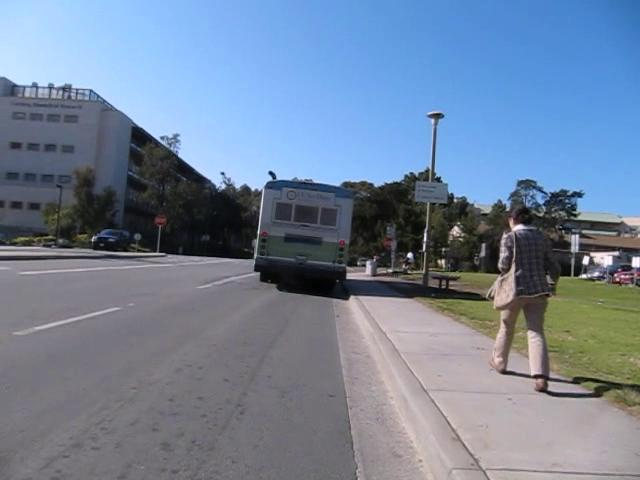stop: (153, 212, 167, 227)
